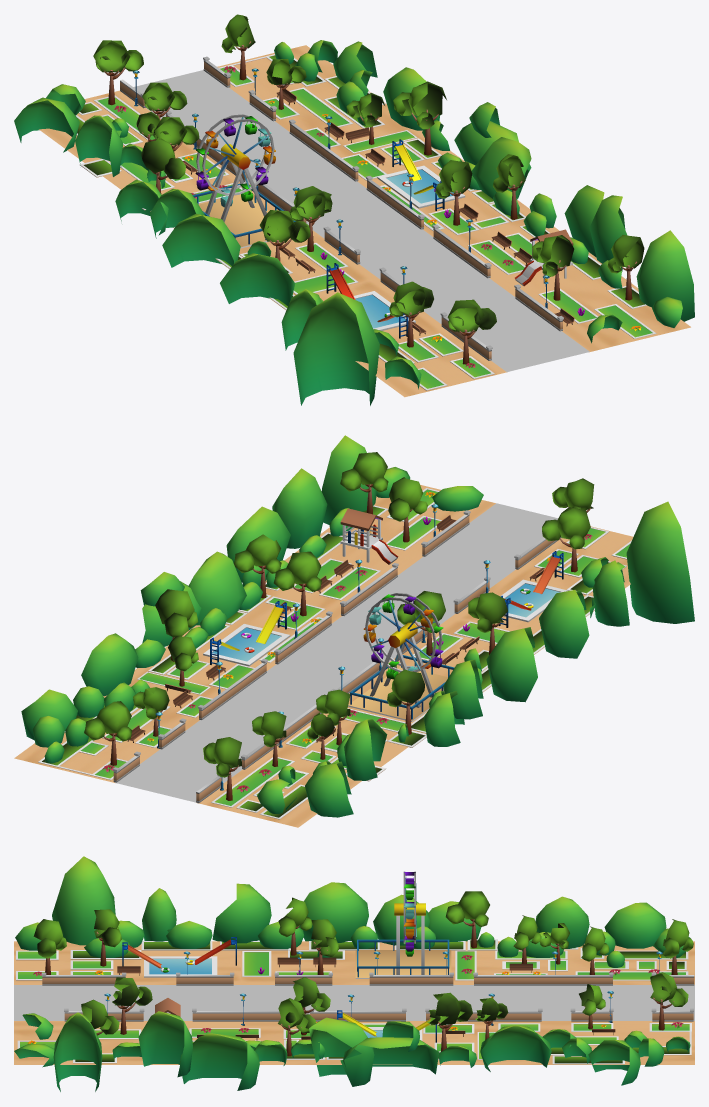
Rendered from pARK FOR TALHA.fbx.
3 views of the same model, one above another, from view 1: azimuth 30°, elevation 25°; view 2: azimuth 150°, elevation 25°; view 3: azimuth 270°, elevation 25° (orthographic). The views are drawn at different scales.
Visible parts, largest first — view 1: Park, road.001; view 2: Park, road.001; view 3: Park, road.001.
Part boxes in pixels (bbox=[...]): Park: bbox=[14, 14, 694, 405]; road.001: bbox=[133, 70, 589, 371]; Park: bbox=[14, 435, 694, 827]; road.001: bbox=[115, 503, 557, 802]; Park: bbox=[14, 856, 694, 1091]; road.001: bbox=[14, 985, 694, 1020].
Bounding box in the file's own units: 1393 × 445 × 2407.
